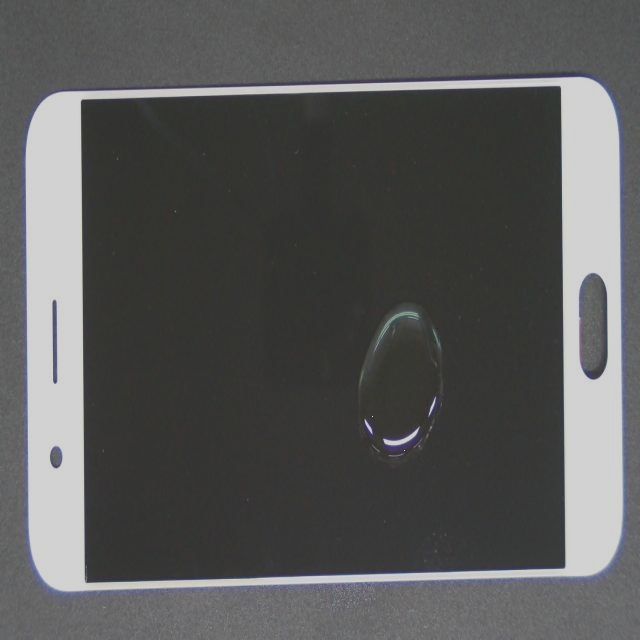oil: (186, 146, 545, 561)
